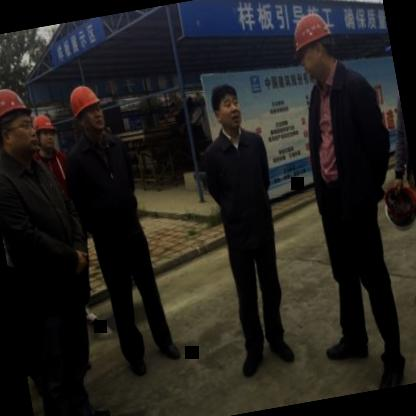head: (206, 77, 248, 140)
helmet: (287, 11, 342, 82), (0, 79, 38, 165), (64, 81, 112, 146), (30, 112, 60, 154)
